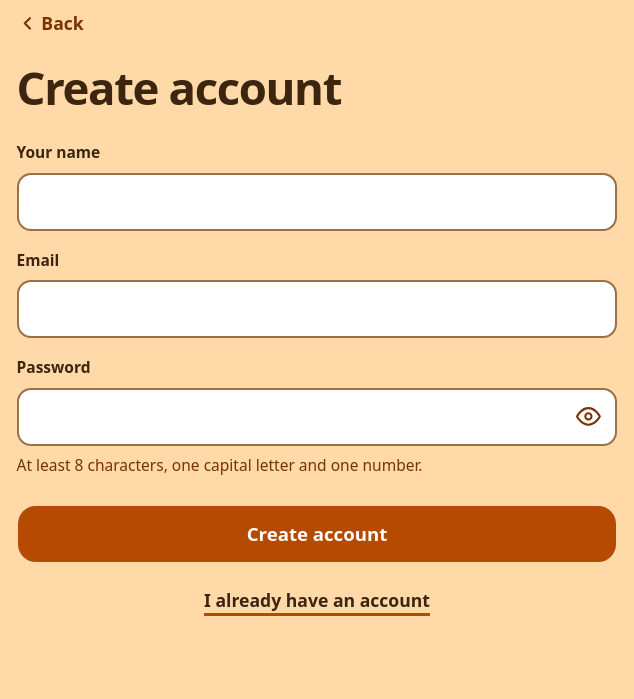
Test case: SignUpScreen › shows the network text inline when the server cannot be reached (en)
The image size is (634, 699).
Type "Filip" into the field labelled "Your name" at (317, 202), box [16,173,618,231]
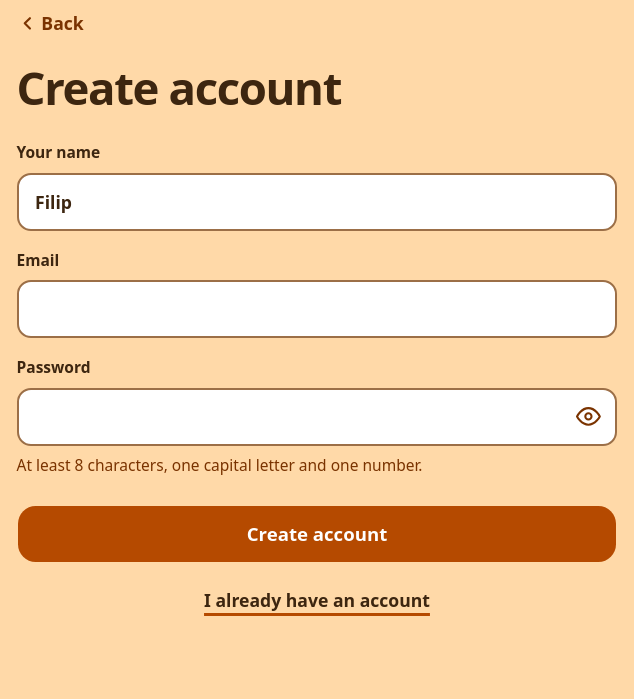
Type "filip@example.com" into the field labelled "Email" at (317, 309), box [16,280,618,338]
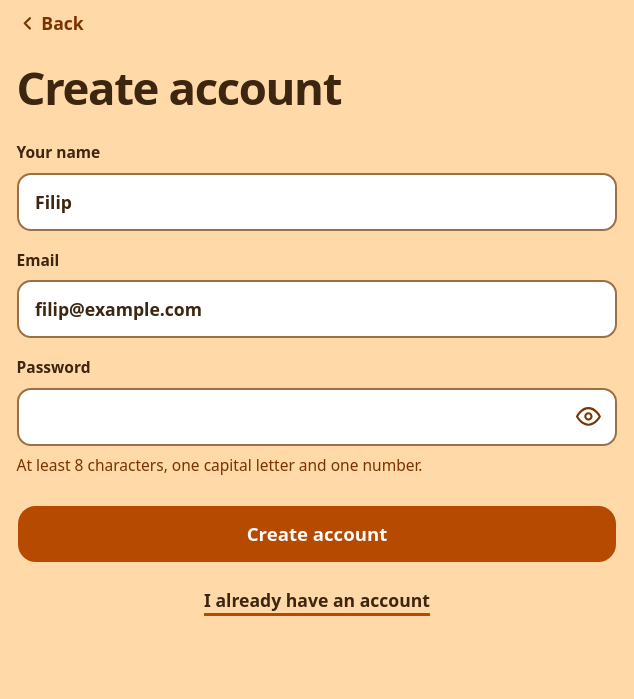
Type "Passw0rdOk" into the password field labelled "Password" at (317, 417), box [16,388,618,446]
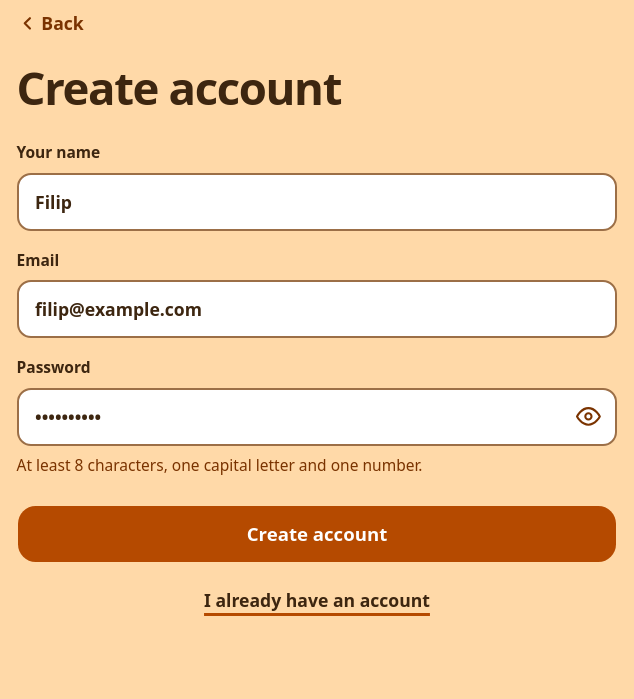
Click the button "Create account" at (317, 534), box [16,506,618,564]
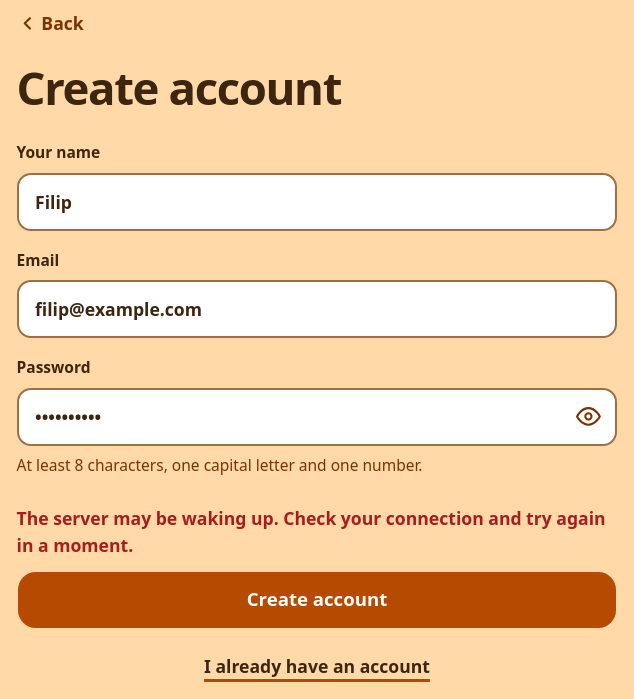
Now the message reads "The server may be waking up. Check your connection and try again in a moment.", box [16,506,606,557]
